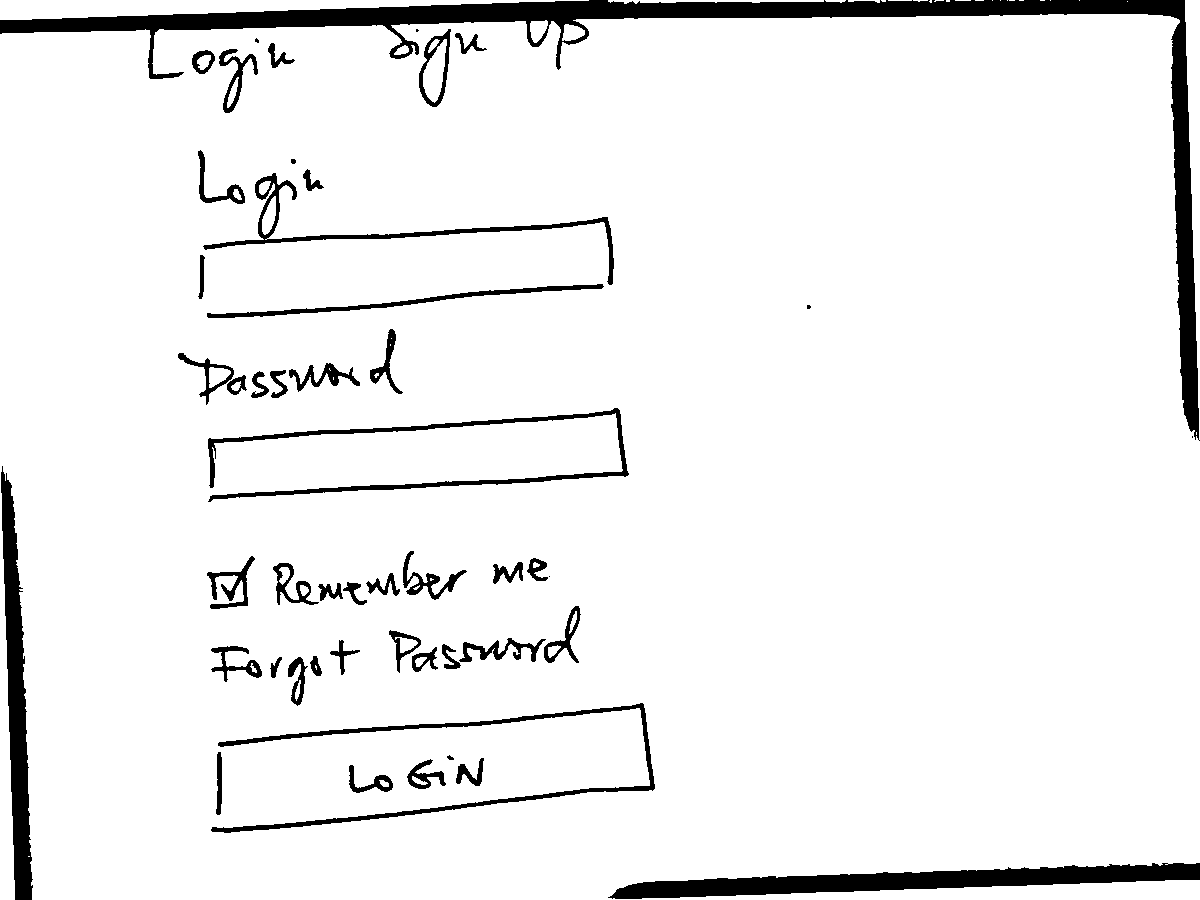Button: (207, 700, 663, 839)
Check Box: (202, 553, 552, 617)
Textbox: (194, 217, 617, 322), (205, 407, 632, 503)
